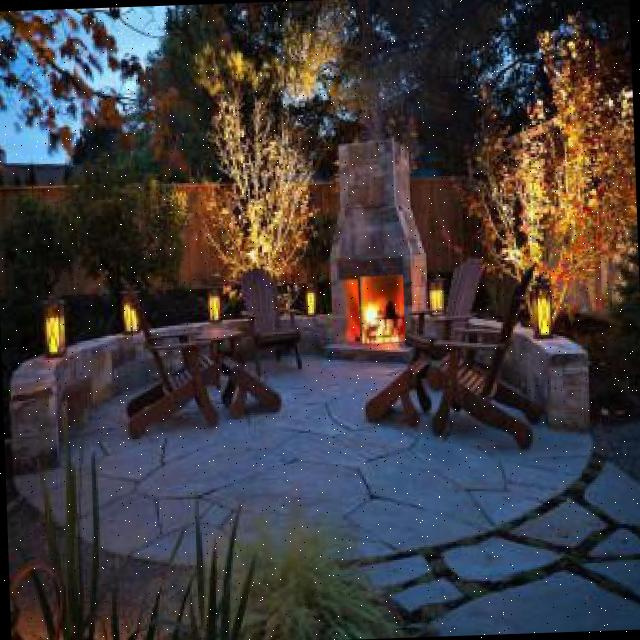fire: (358, 274, 404, 344)
